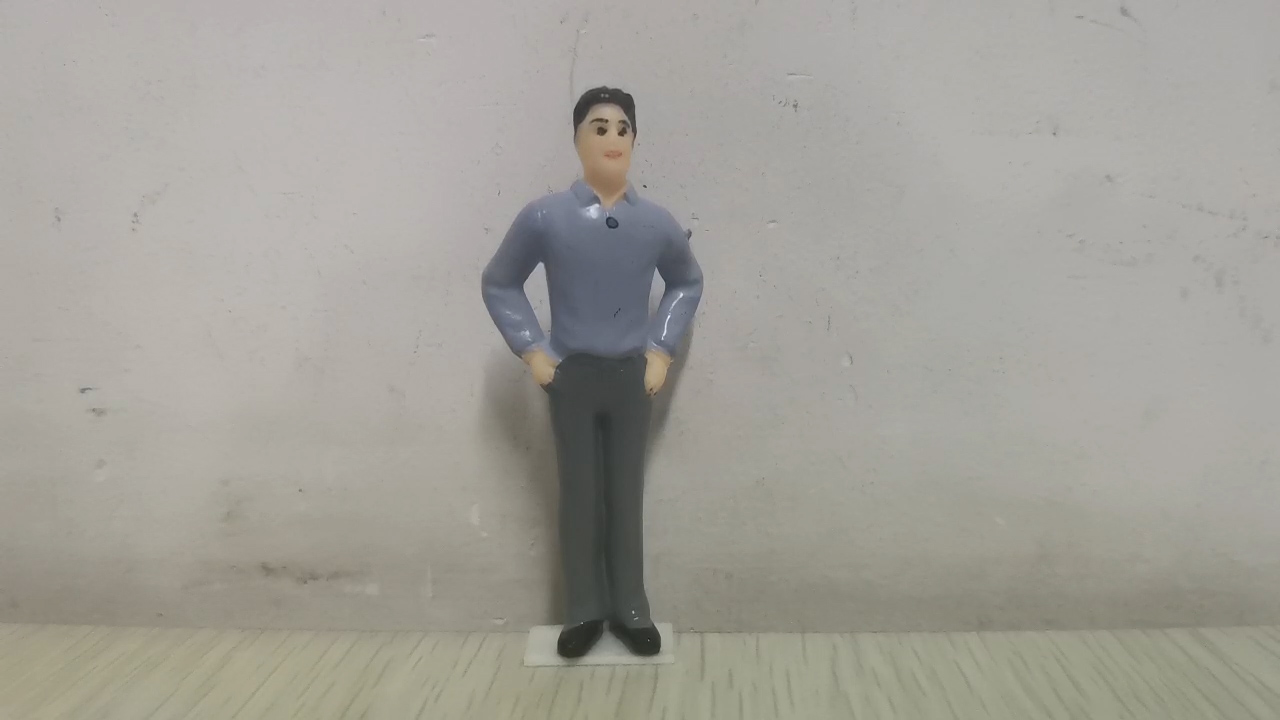person: (477, 84, 707, 661)
